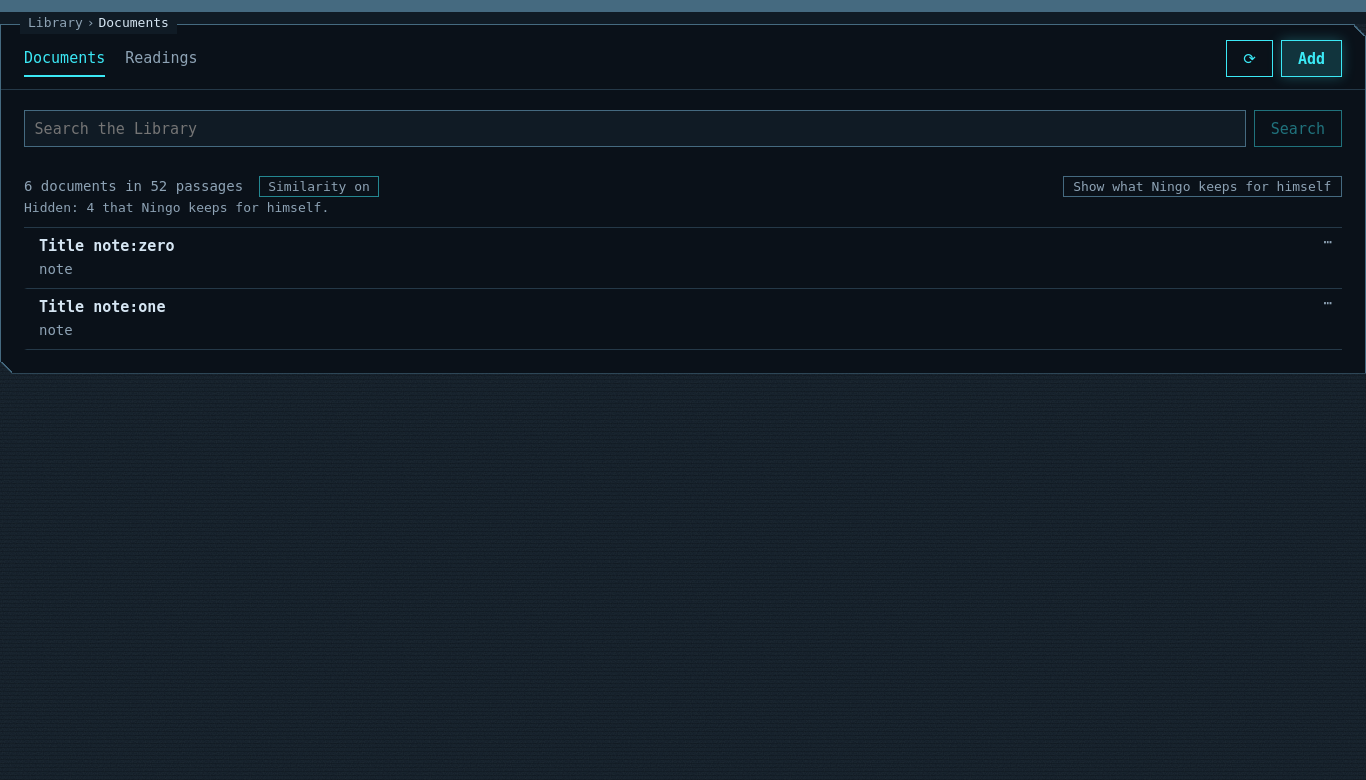
Test: the Library's workspace › keeps the open documents when a refresh finds the Library unreachable
Click the button with aria-label "Open Title note:one": {"x": 102, "y": 307} [39,295,165,319]
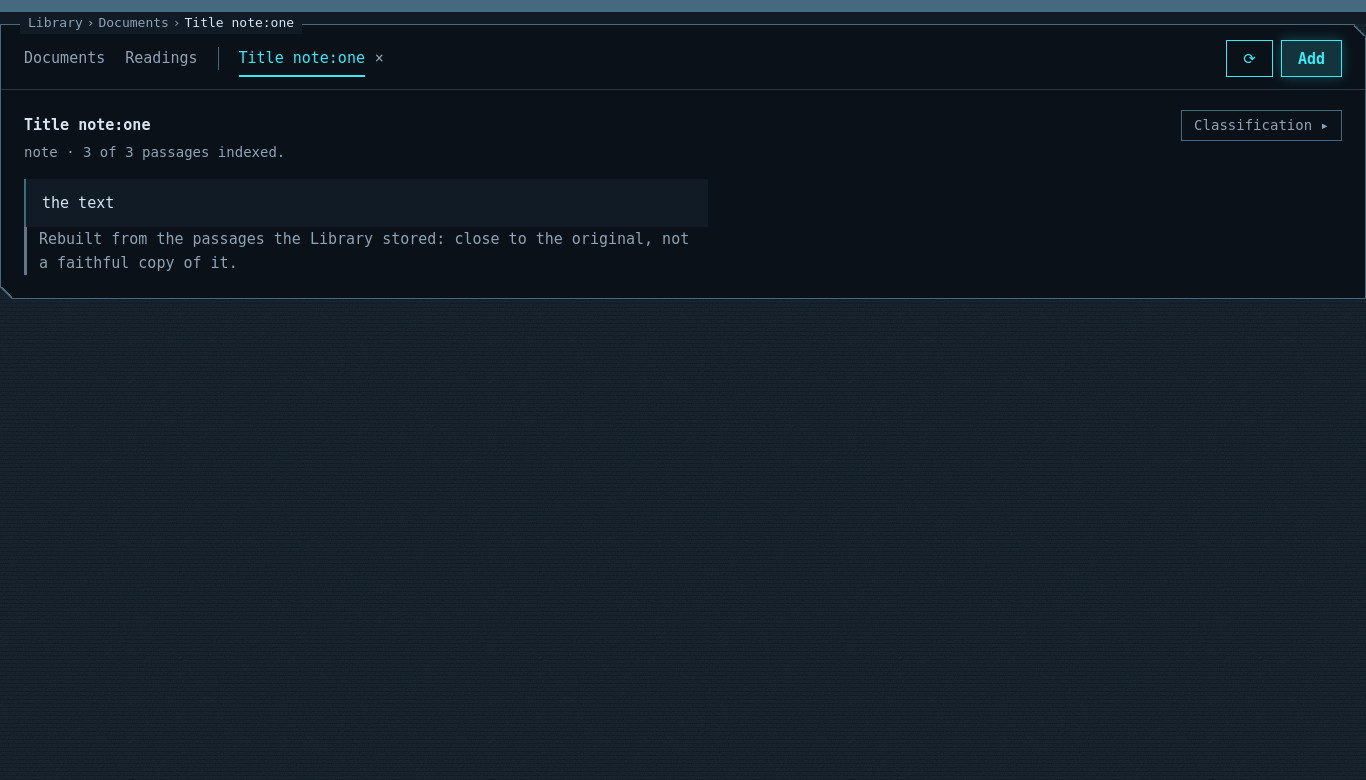
Now the text "the text" is shown, box [24,179,708,227]
Click the button named "Refresh": {"x": 1250, "y": 59} [1226,40,1273,77]
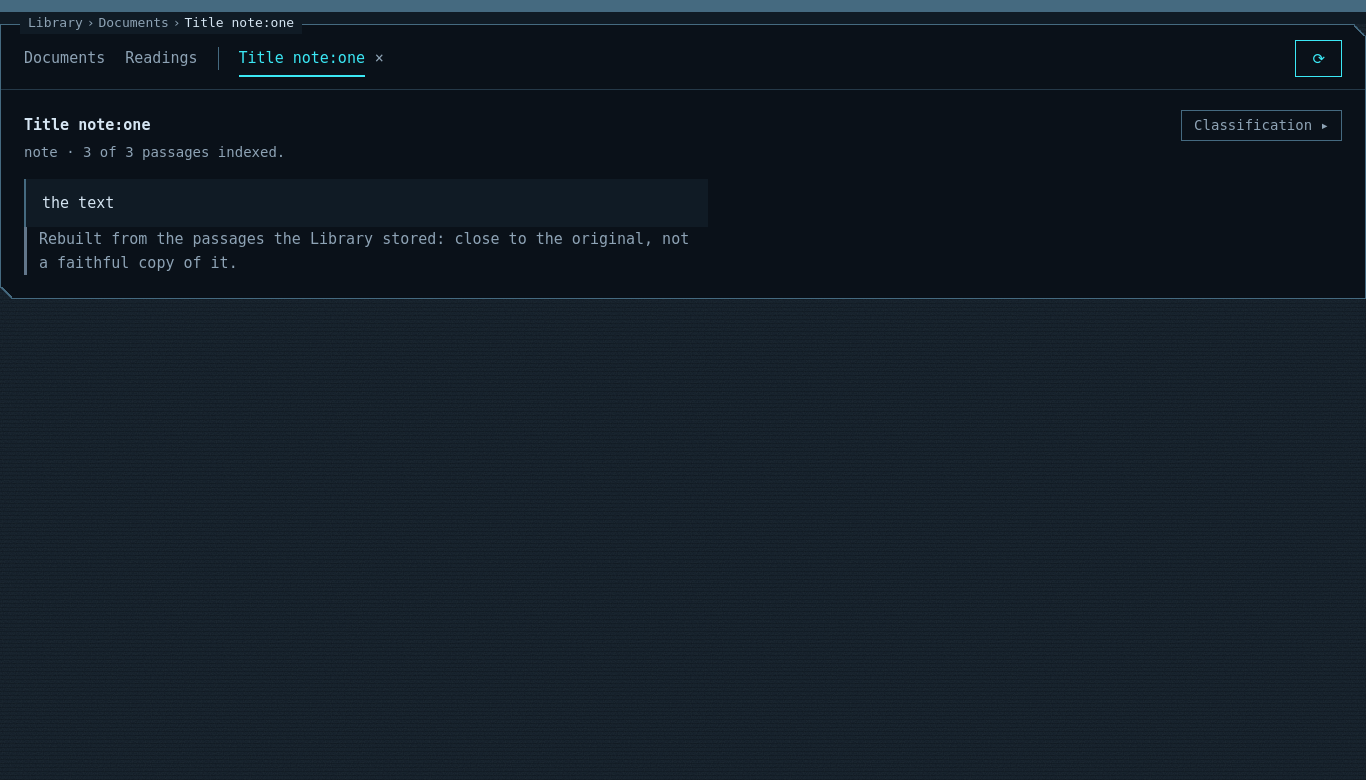
Now the tab "Title note:one" is shown, box [238,40,365,77]
Now the text "the text" is shown, box [24,179,708,227]
Click the tab "Documents": {"x": 65, "y": 59} [24,40,105,77]
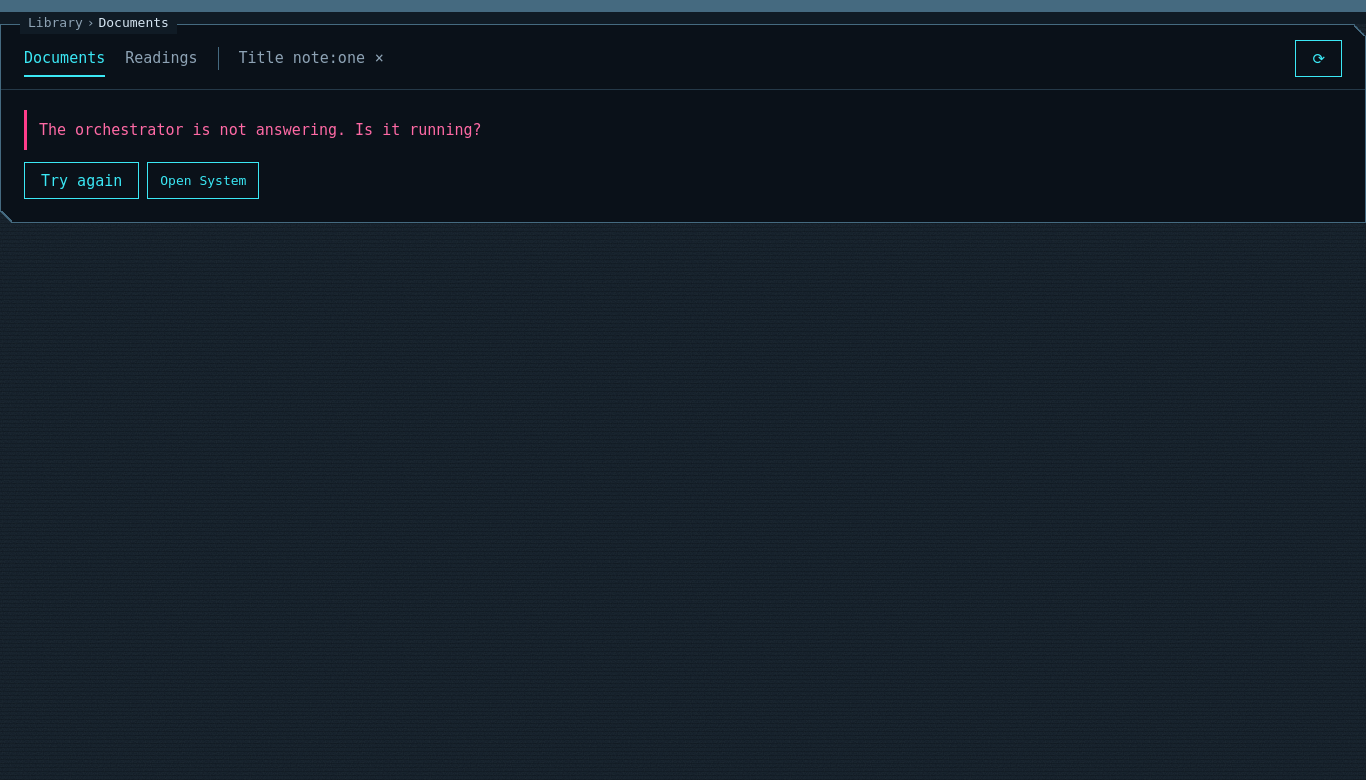
Now the message reads "The orchestrator is not answering. Is it running?", box [39,121,482,139]
